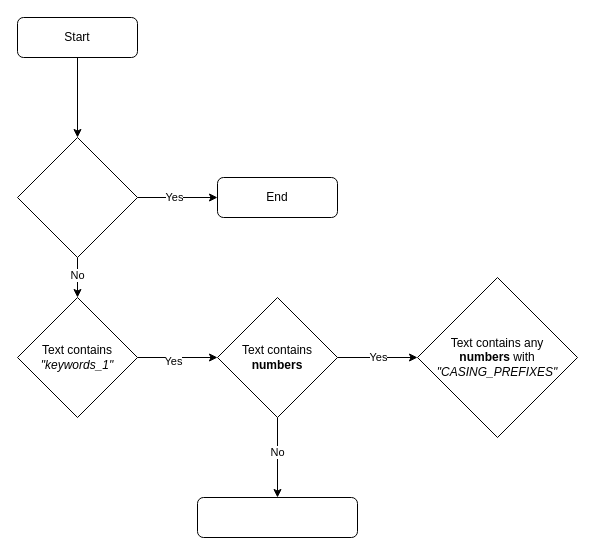
The diagram is 595 pixels wide and 555 high, and some of its shapes have lost their labels. Here are the shapes that lost their labels. From the top down, the box of each, then its label:
(16, 136, 138, 258): Text Contains Anti-Keywords
(196, 496, 358, 538): End (Use previous Bit Depth)
